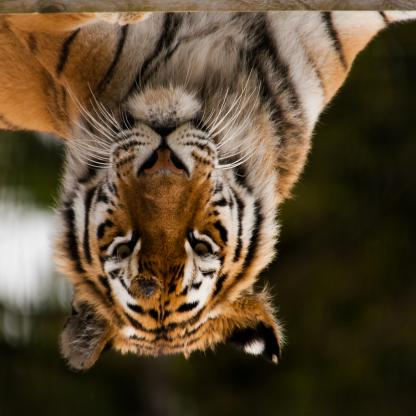tiger: (44, 78, 288, 389)
